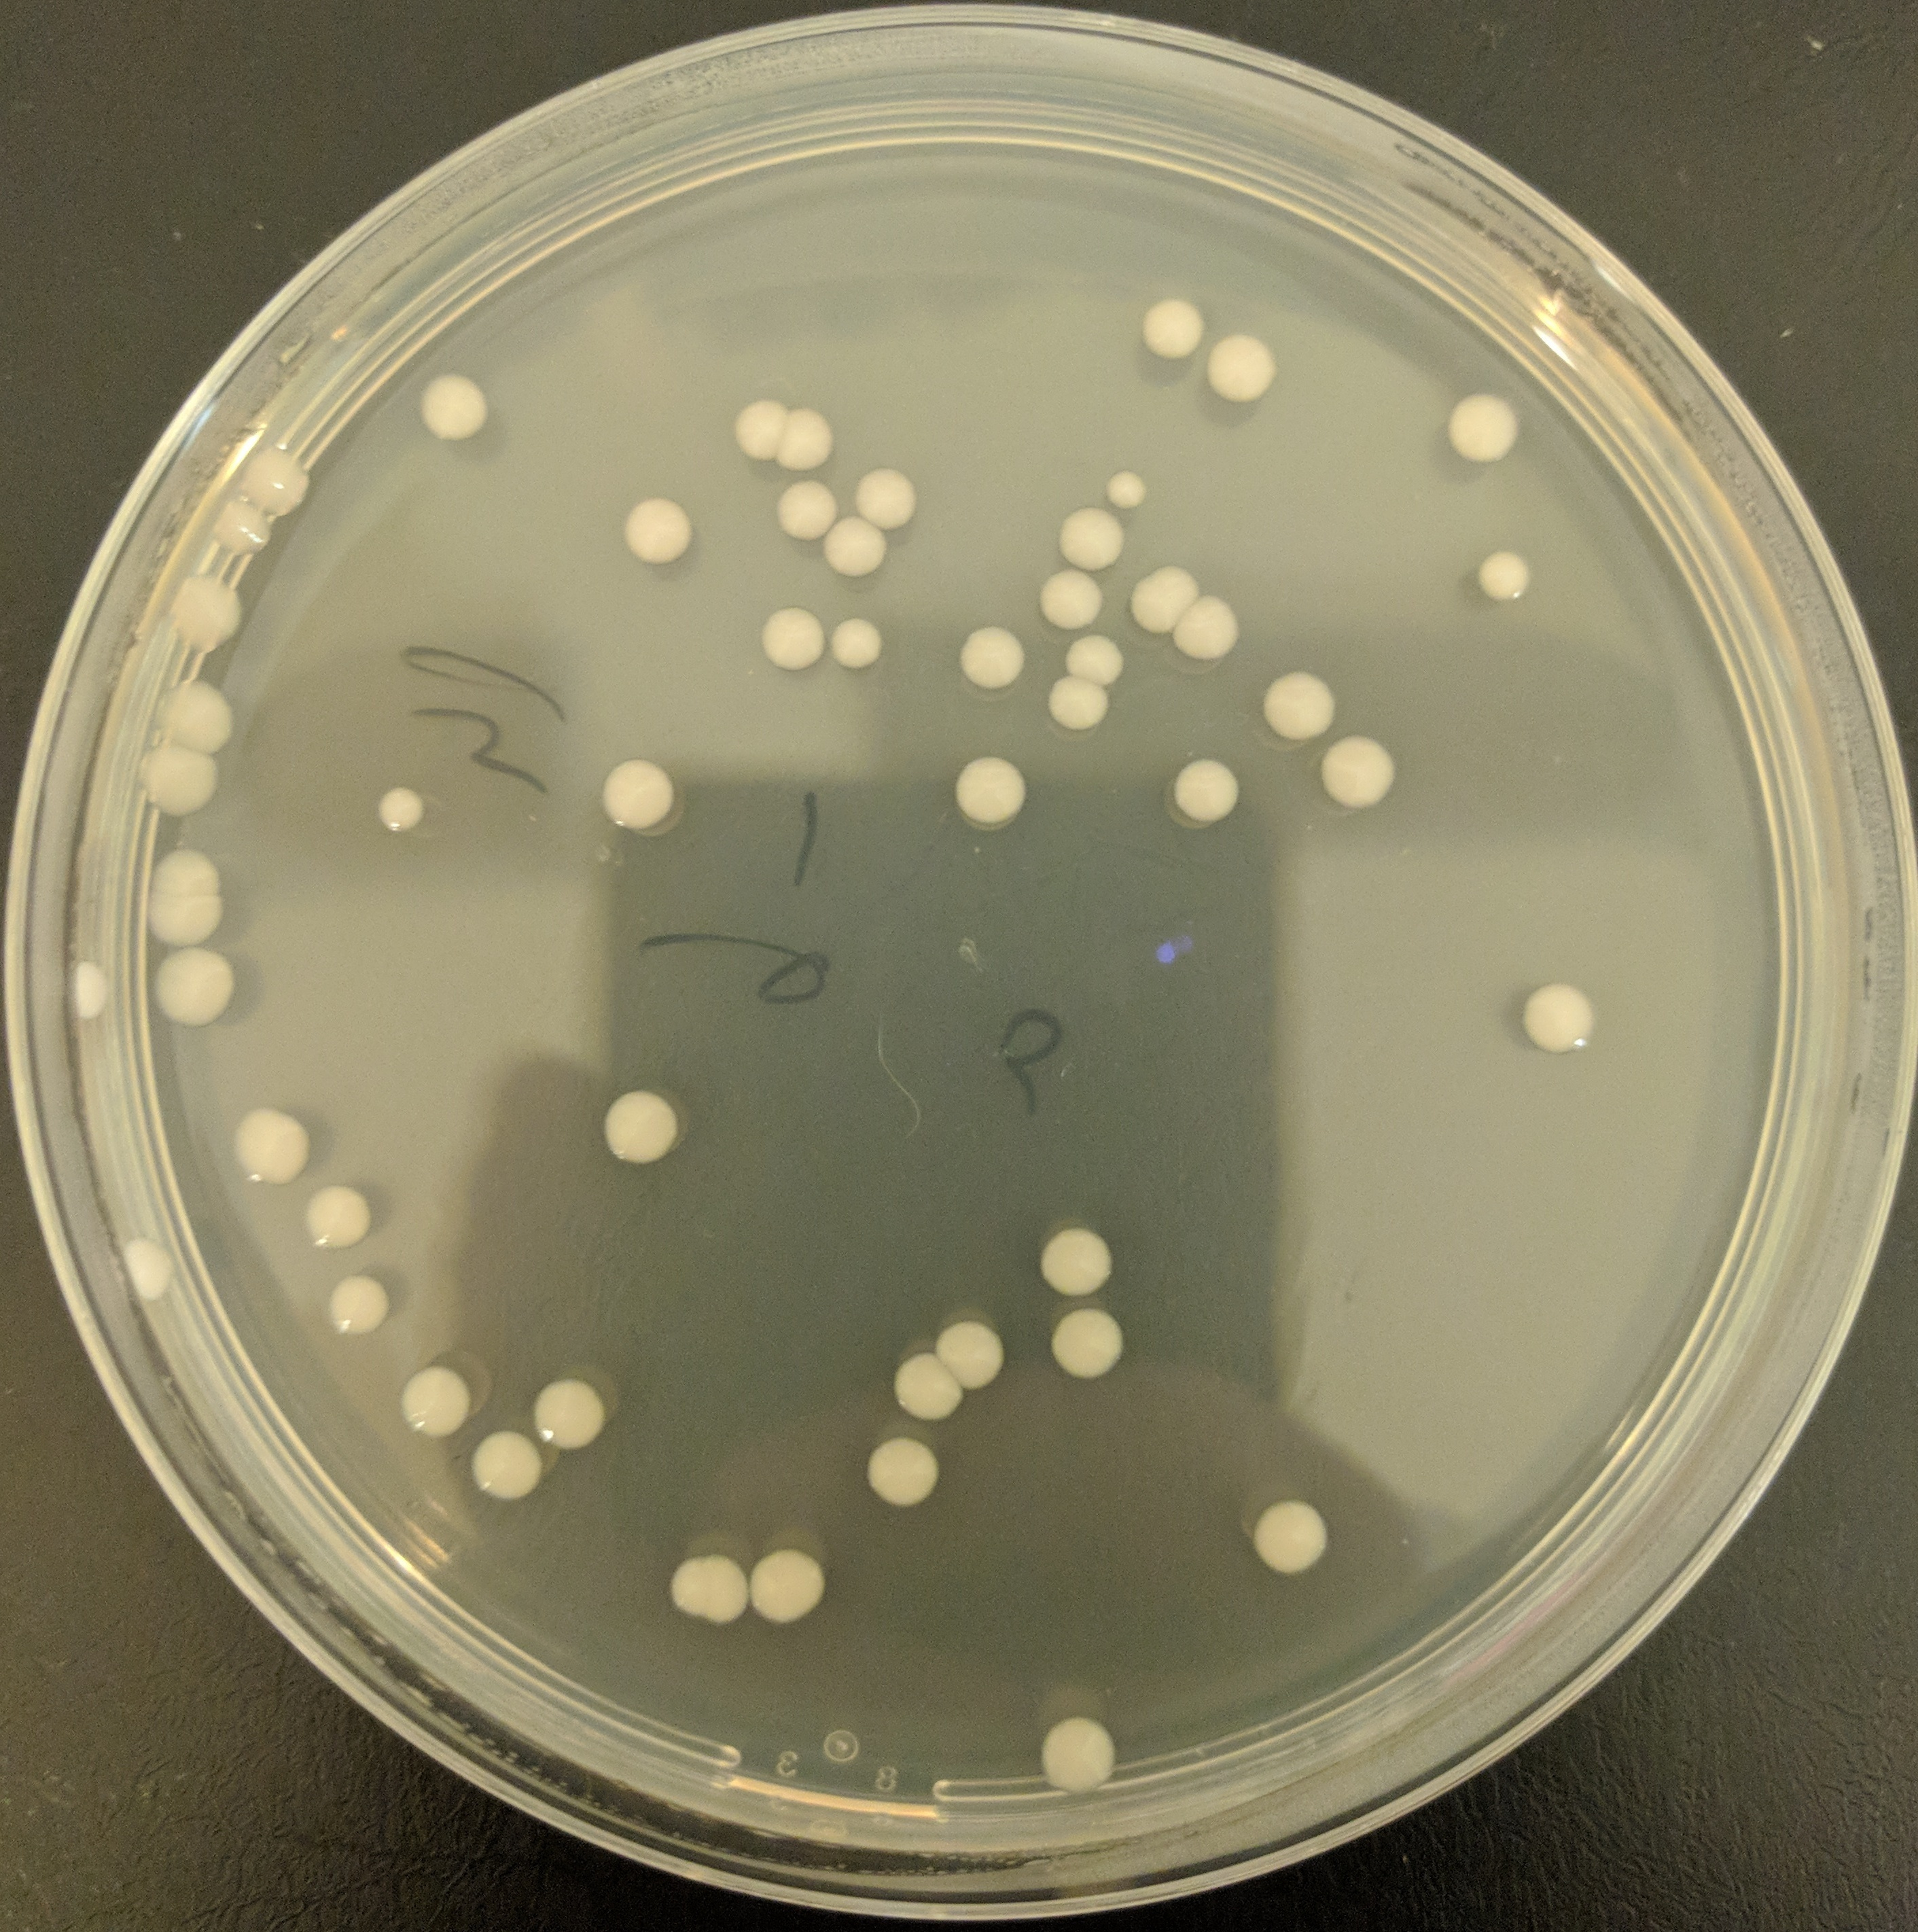sp20: (211, 1105, 323, 1196), (137, 674, 251, 757), (1233, 1493, 1342, 1579), (144, 947, 244, 1036), (581, 762, 694, 841), (121, 743, 234, 822), (743, 1546, 838, 1635), (590, 1094, 694, 1175), (1042, 1308, 1140, 1393), (1036, 1716, 1126, 1807), (1029, 1222, 1122, 1307), (162, 574, 255, 659), (1312, 732, 1407, 815), (520, 1377, 620, 1454), (1252, 667, 1340, 753), (1163, 752, 1252, 836), (931, 1312, 1015, 1396), (1119, 560, 1205, 643), (458, 1433, 550, 1510), (864, 1433, 948, 1516), (882, 1345, 978, 1417), (948, 753, 1036, 833), (311, 1265, 402, 1340), (139, 885, 232, 959), (615, 494, 704, 569), (1196, 330, 1287, 404), (390, 1370, 483, 1442), (234, 441, 318, 520), (750, 601, 838, 676), (810, 511, 899, 585), (1047, 502, 1133, 576), (411, 374, 501, 444), (950, 624, 1029, 703), (1031, 559, 1115, 632), (854, 460, 931, 539), (1518, 987, 1600, 1059), (200, 495, 283, 567), (1447, 390, 1521, 469), (1135, 295, 1214, 365), (1042, 667, 1121, 736), (111, 1235, 190, 1303), (757, 474, 836, 541), (306, 1186, 385, 1251), (144, 841, 232, 899), (822, 615, 898, 680), (657, 1547, 720, 1625), (694, 1553, 755, 1632), (724, 393, 792, 464), (769, 404, 838, 474), (1061, 631, 1133, 694), (61, 954, 118, 1029), (1173, 595, 1242, 657), (1470, 543, 1533, 608), (371, 782, 436, 845), (1098, 465, 1159, 513)
